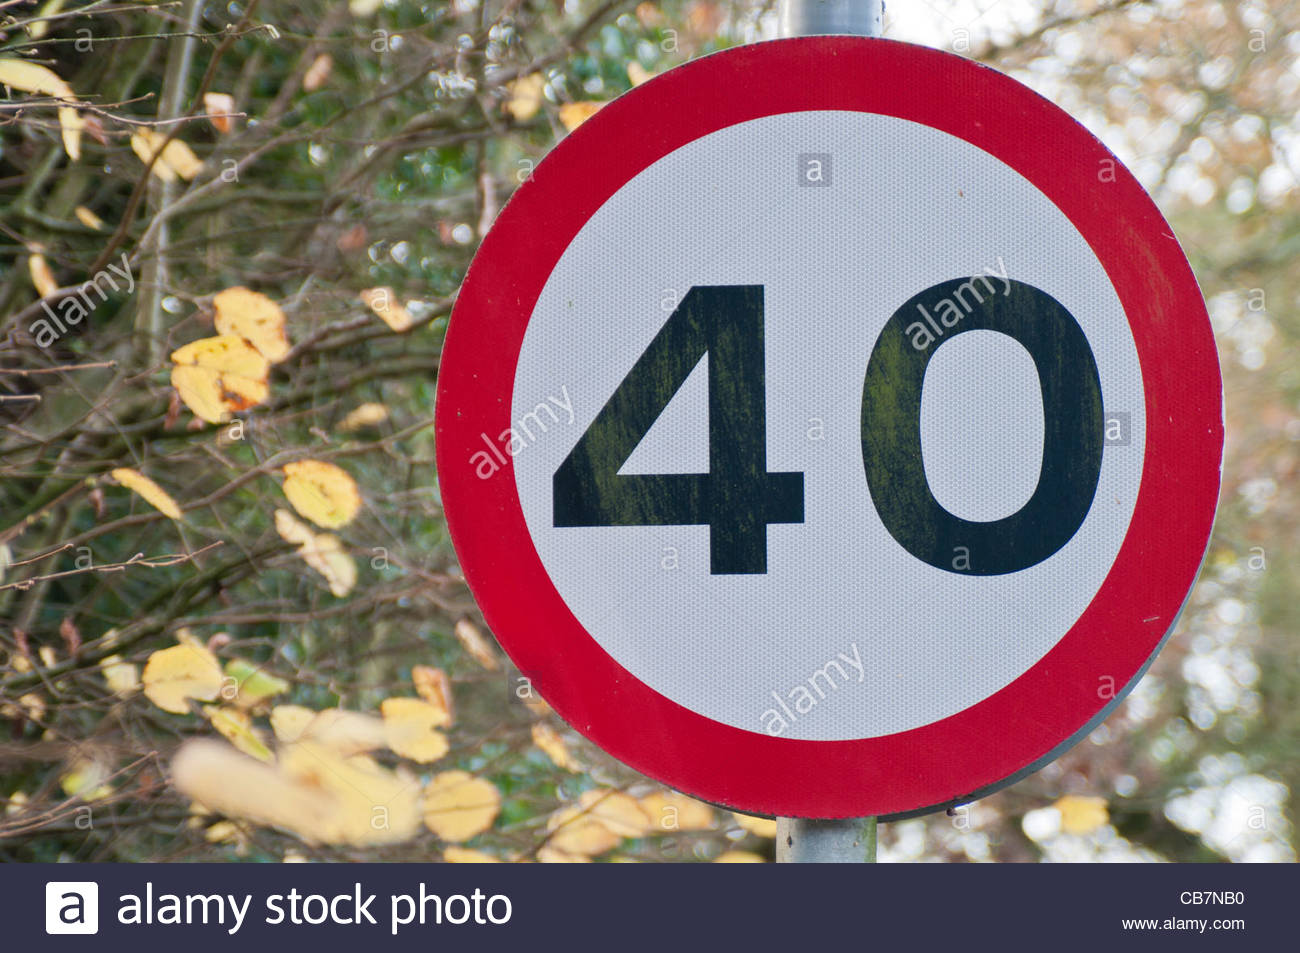Speed_limit_40km: (429, 35, 1226, 836)
